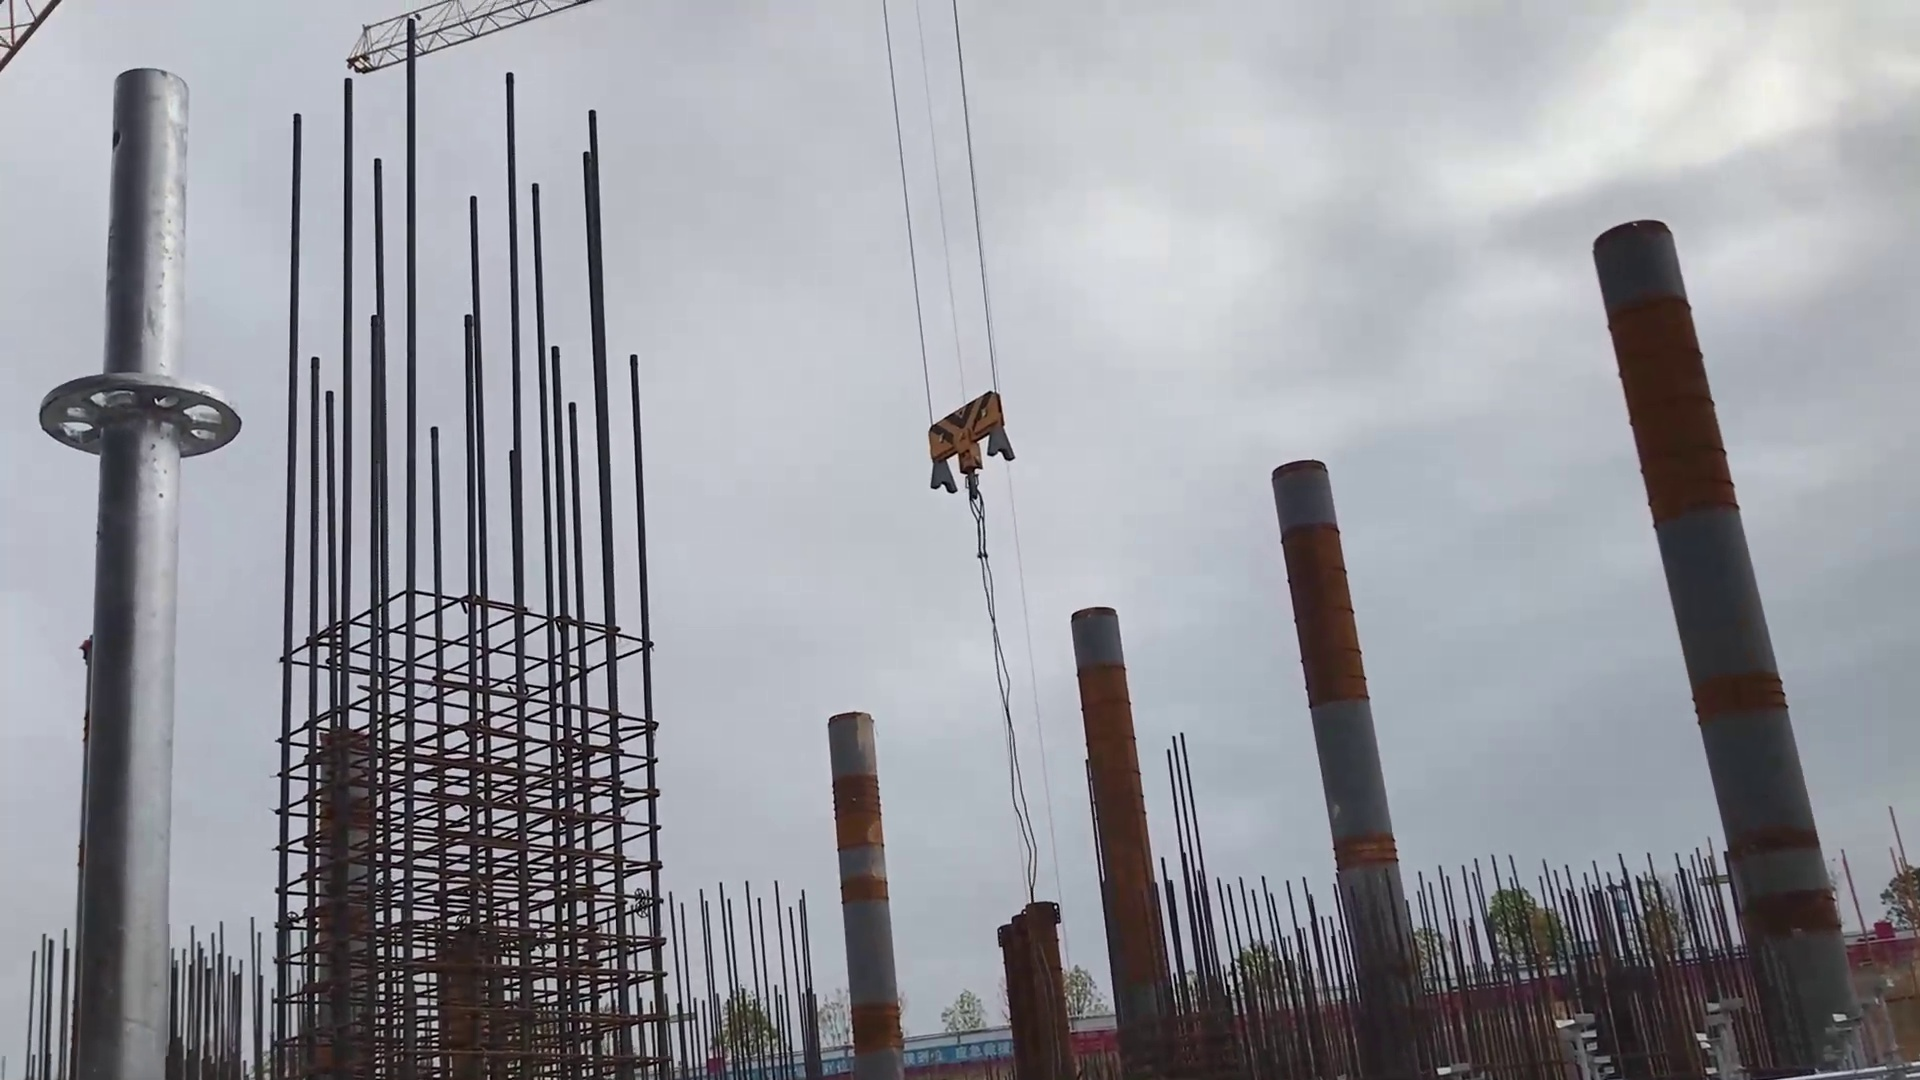hook: (902, 376, 1025, 504)
